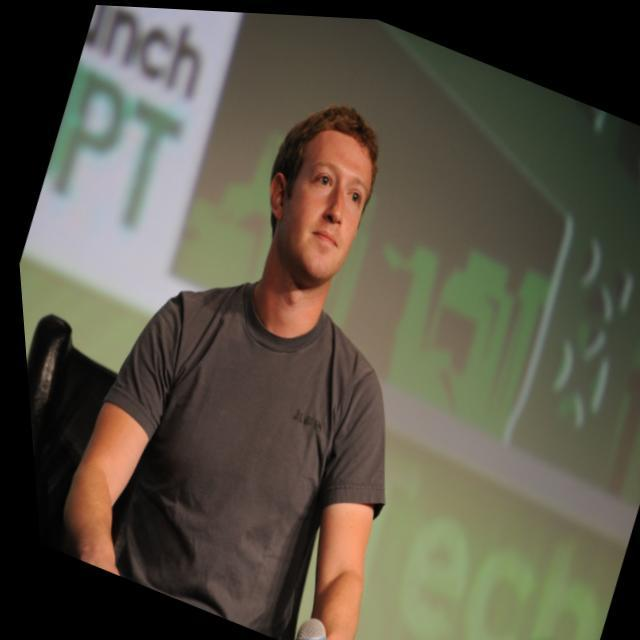Nonhelmet: (263, 102, 383, 287)
